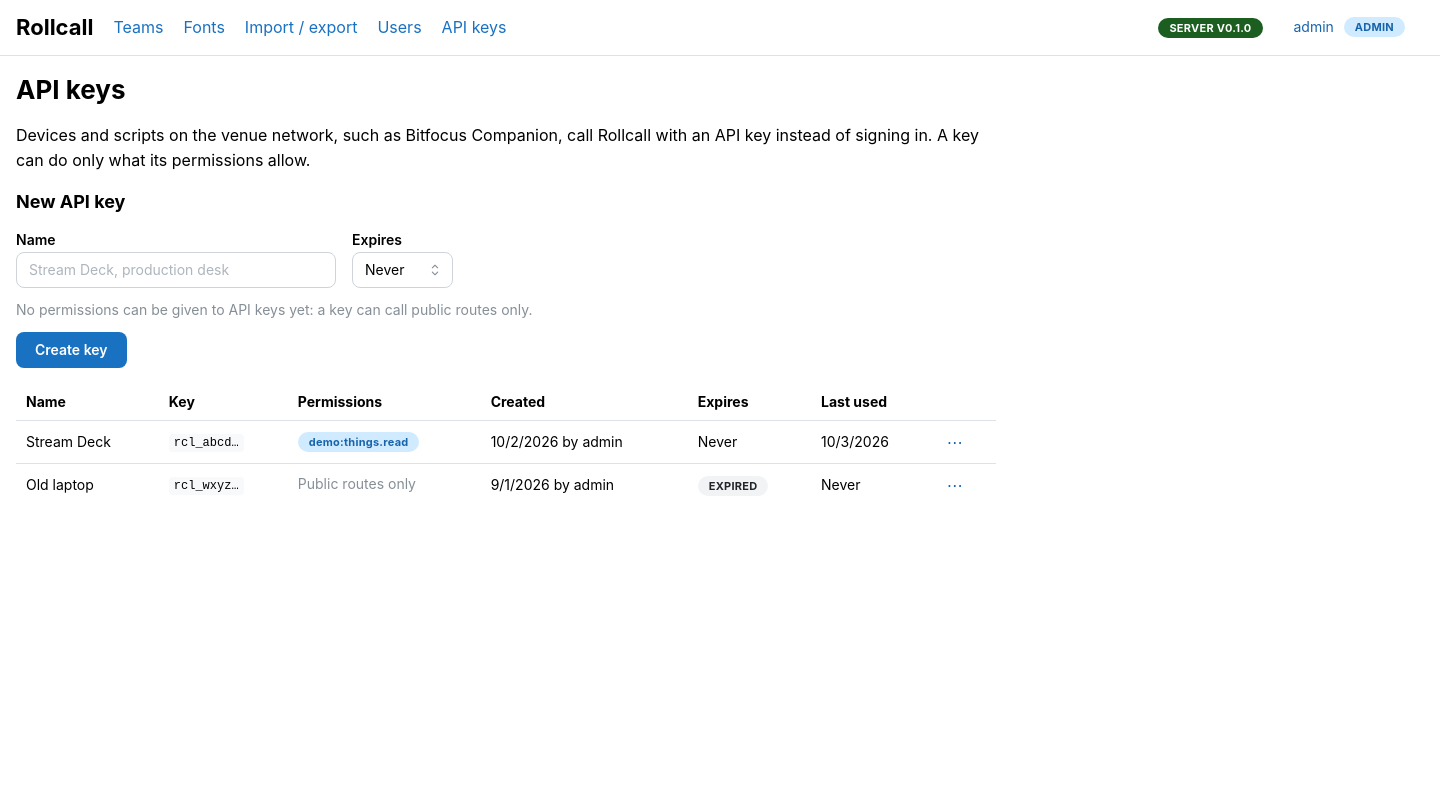
Test: the API keys page › says when nothing can be given to keys yet, and still creates one for public routes
The image size is (1440, 810).
Expected: the text "Stream Deck" is shown, [16, 420, 159, 463]
Expected: the text "No permissions can be given to API keys yet: a key can call public routes only." is shown, [16, 301, 533, 318]
Step 1. Type "Companion" into the field labelled "Name" → (176, 270), box [16, 252, 336, 288]
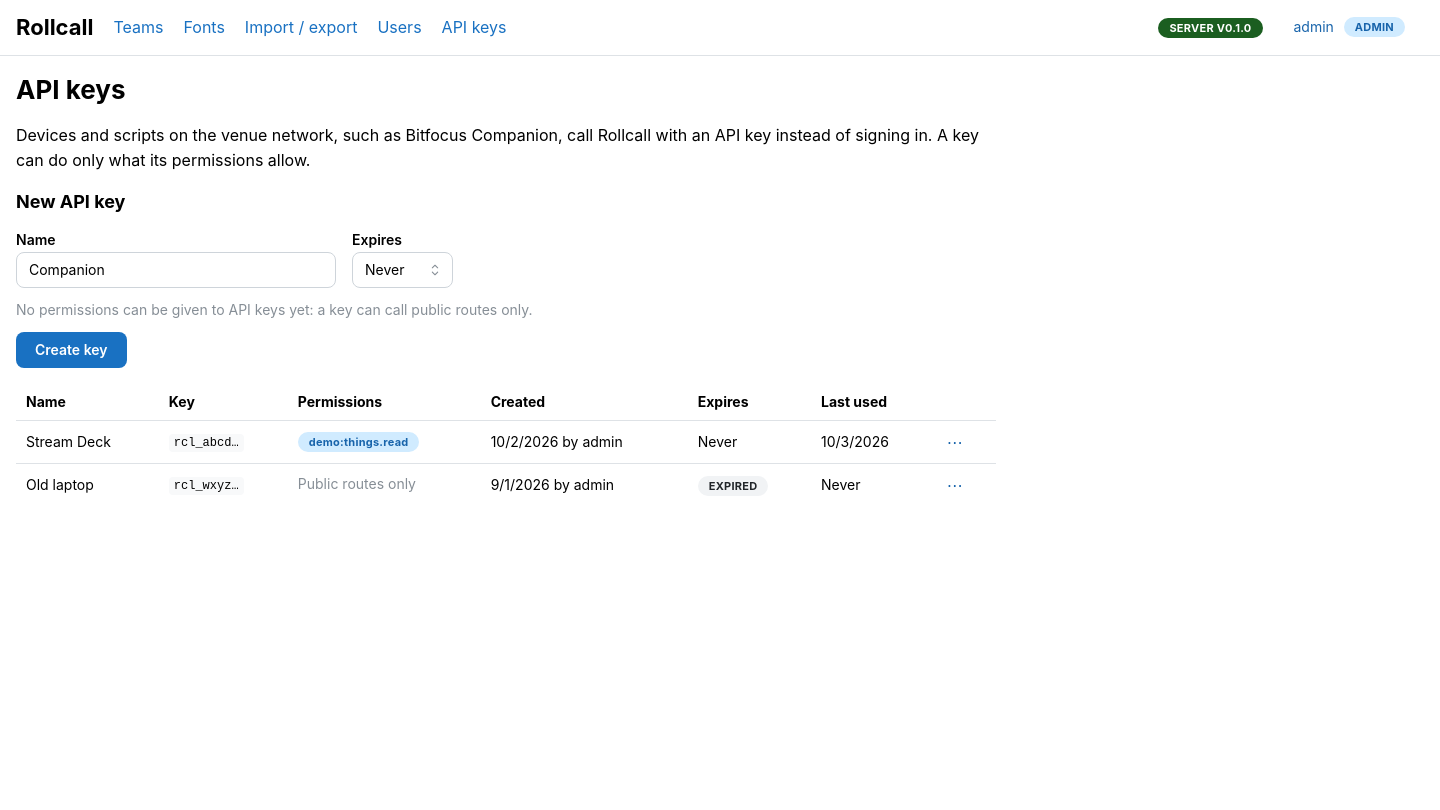
Step 2. Click the button "Create key" → (71, 350), box [16, 332, 126, 368]
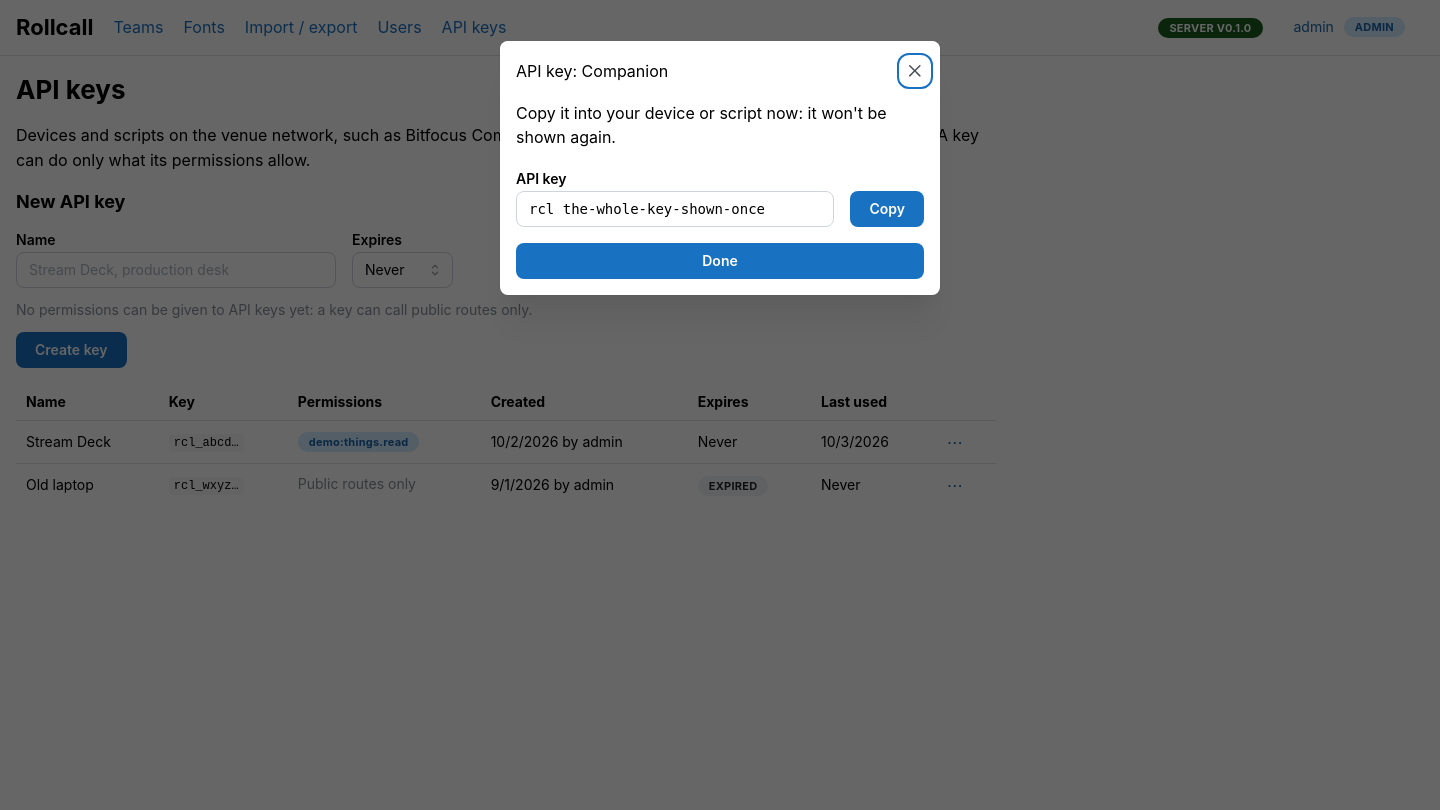
Result: the dialog "API key: Companion" is shown at [500, 40, 940, 295]
